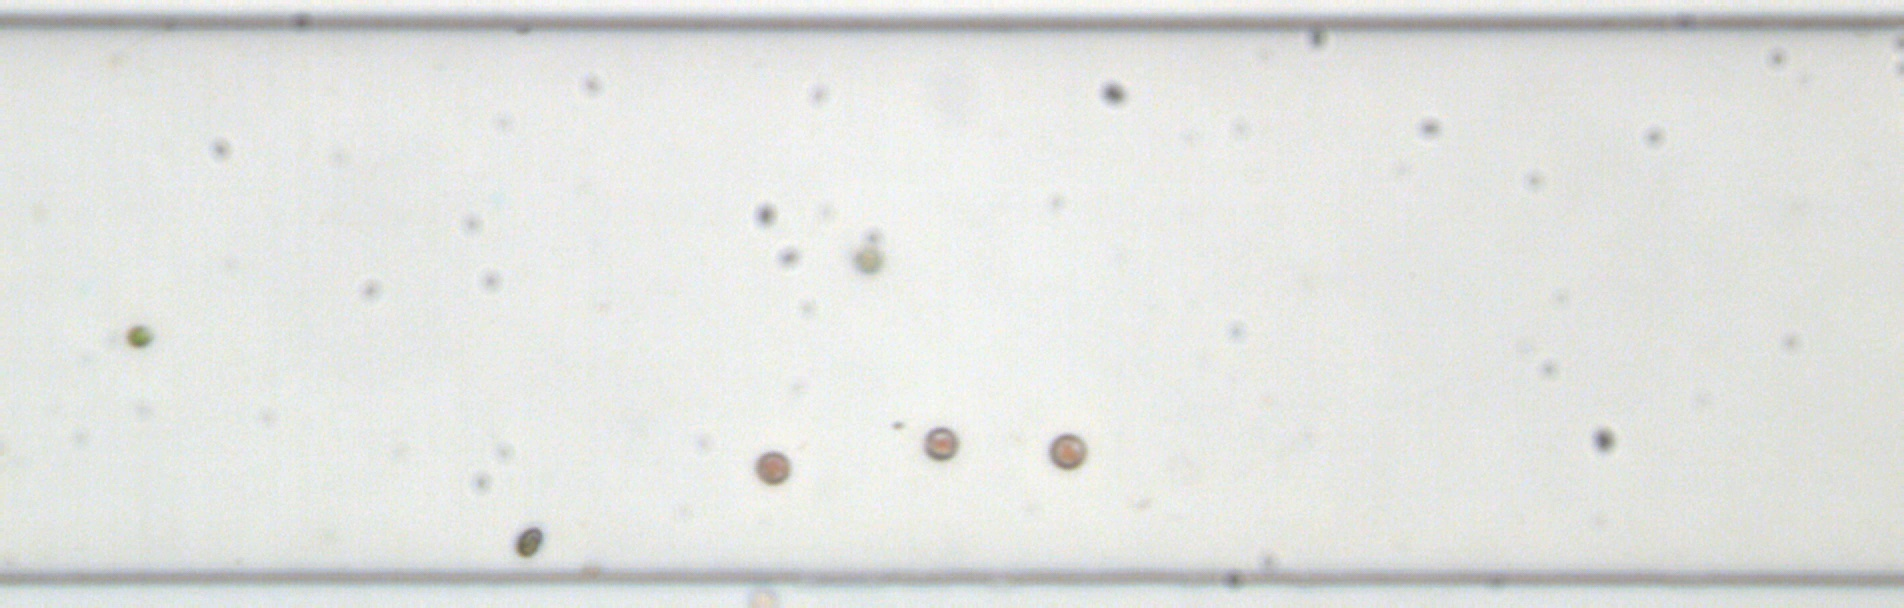Chlorella: (852, 244, 882, 275), (124, 322, 151, 348)
Dunaliella salina: (512, 523, 542, 559)
Porphyridium: (1047, 430, 1088, 471), (920, 424, 959, 464), (755, 449, 792, 485)
